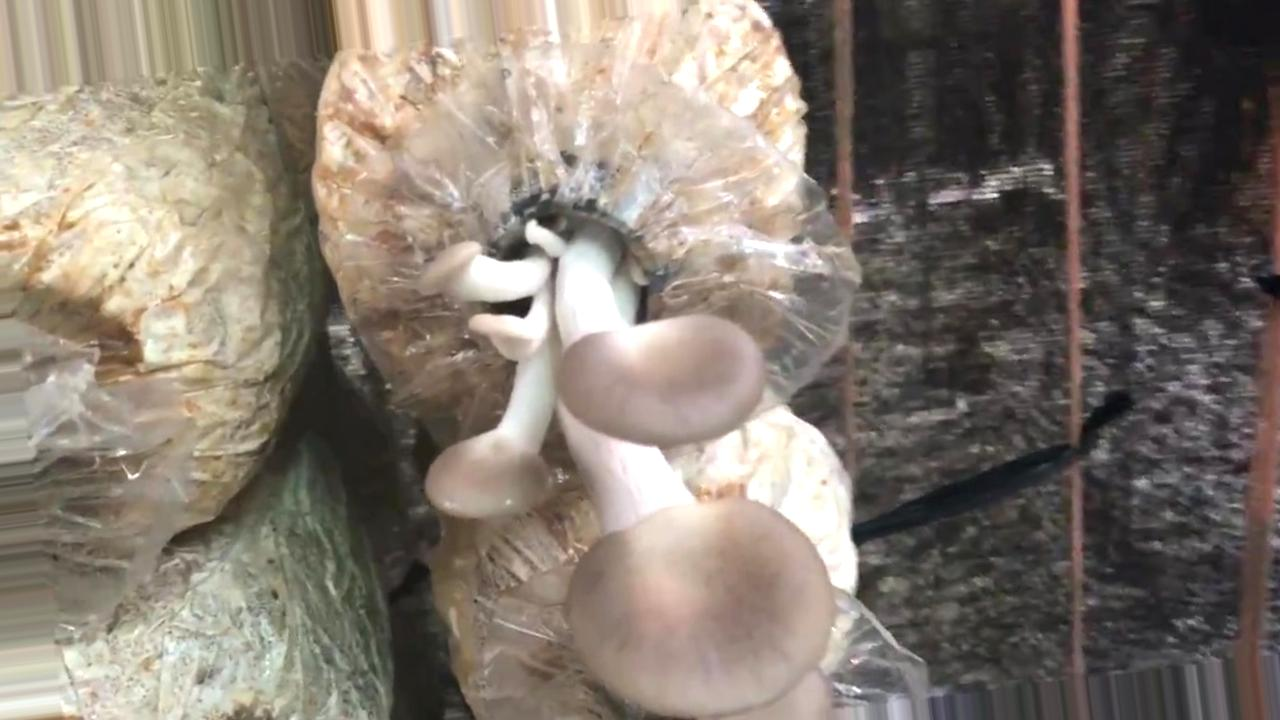nam: (425, 170, 836, 720)
